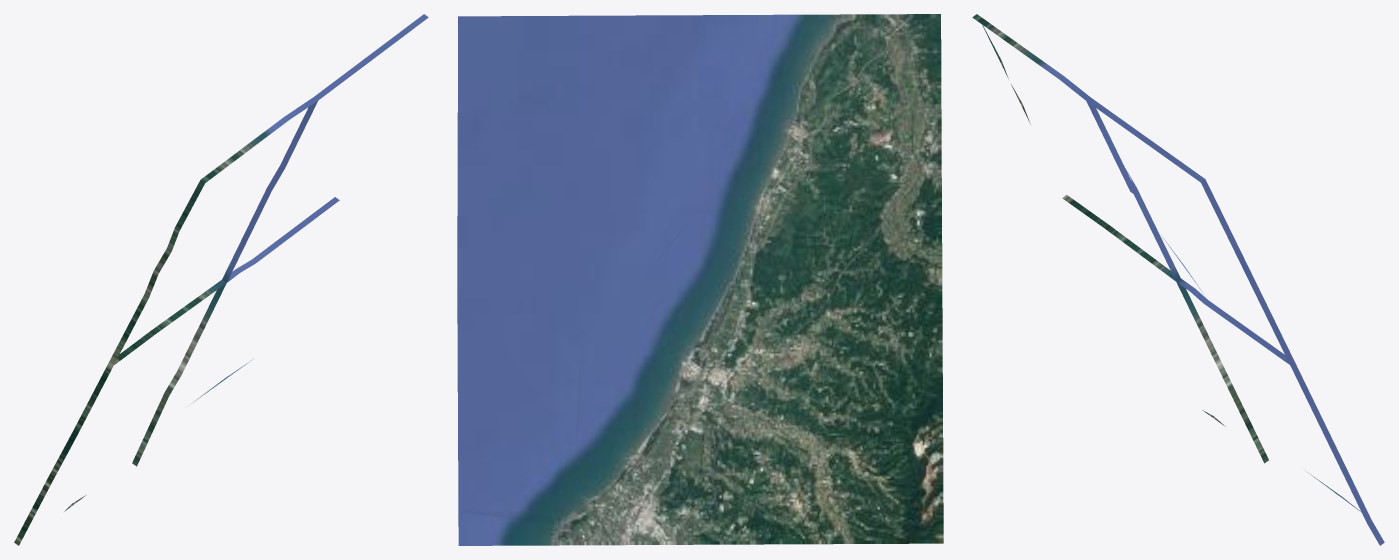
3 renders of one model, left to right at view 1: azimuth 30°, elevation 25°; view 2: azimuth 150°, elevation 25°; view 3: azimuth 270°, elevation 25°, orthographic. The views are drawn at different scales.
Size of the model in its own units: 19819 by 17934 by 16342.
Materials: 1 (1 with a texture image).
